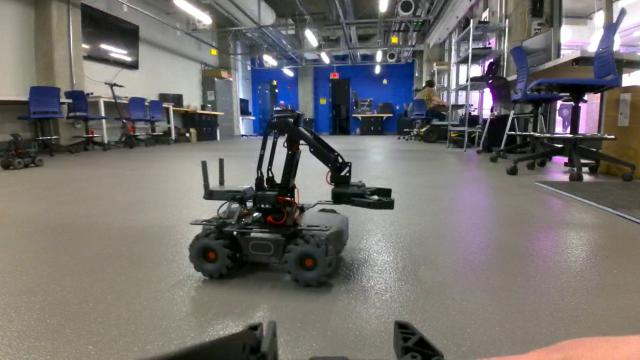robot: (184, 107, 395, 288)
